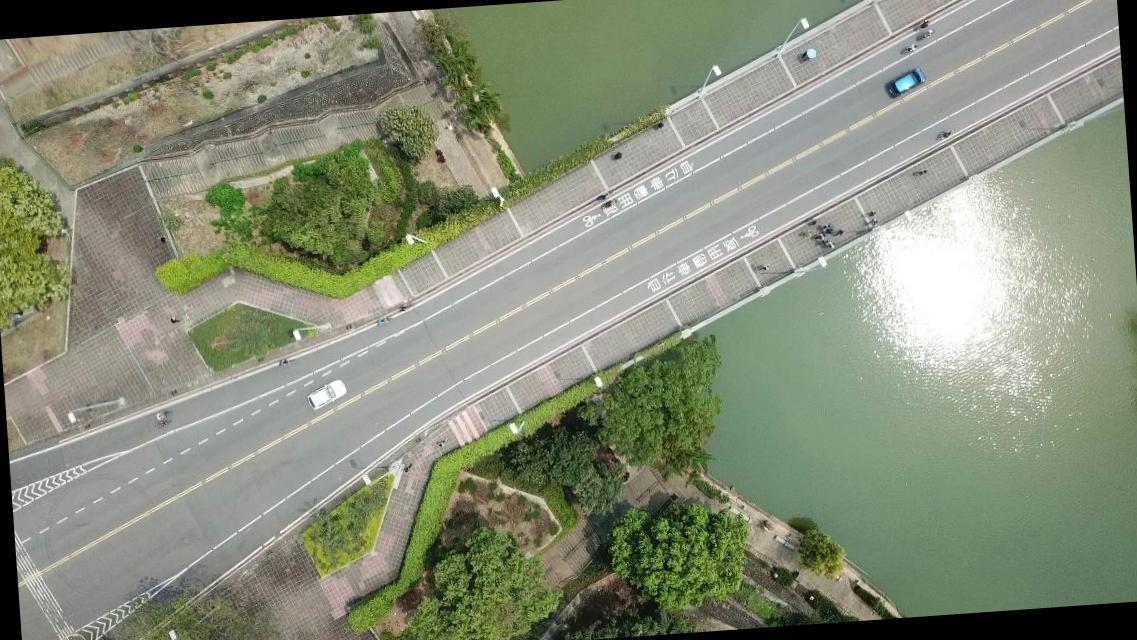vehicle: (304, 378, 348, 412), (884, 65, 927, 98)
